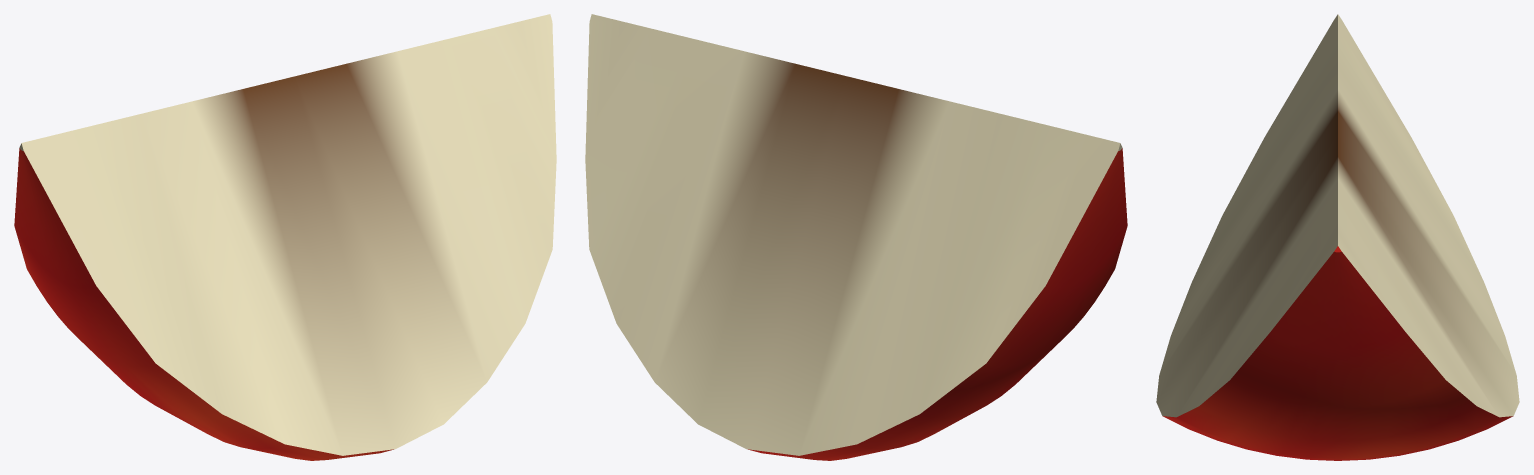
File: Apple.glb
3 renders of one model, left to right at view 1: azimuth 30°, elevation 25°; view 2: azimuth 150°, elevation 25°; view 3: azimuth 270°, elevation 25°, orthographic. The views are drawn at different scales.
Visible parts, largest first — view 1: AppleFlesh, AppleSkin; view 2: AppleFlesh, AppleSkin; view 3: AppleFlesh, AppleSkin.
Boxes of the visible parts, left/top/right/bottom form: AppleFlesh: left=19, top=14, right=556, bottom=455; AppleSkin: left=14, top=148, right=393, bottom=460; AppleFlesh: left=585, top=14, right=1122, bottom=455; AppleSkin: left=748, top=148, right=1127, bottom=460; AppleFlesh: left=1156, top=14, right=1519, bottom=417; AppleSkin: left=1162, top=246, right=1513, bottom=460.
Bounding box in the file's own units: 0.06 × 0.038 × 0.0397.
